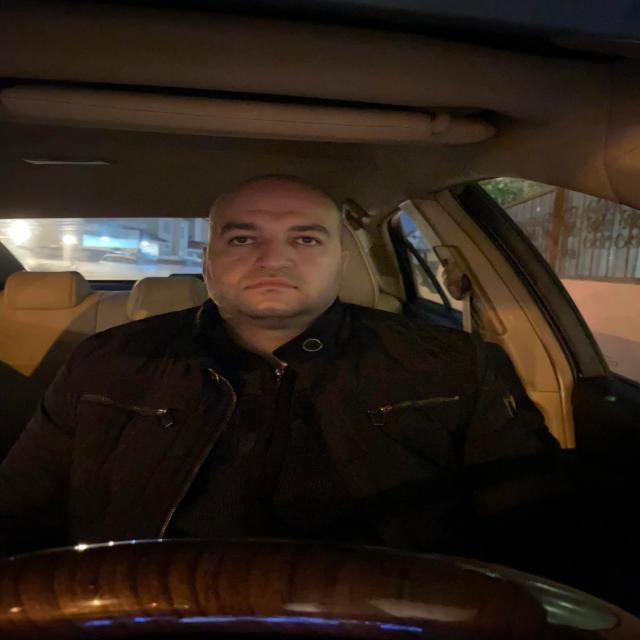person: (198, 164, 357, 344)
